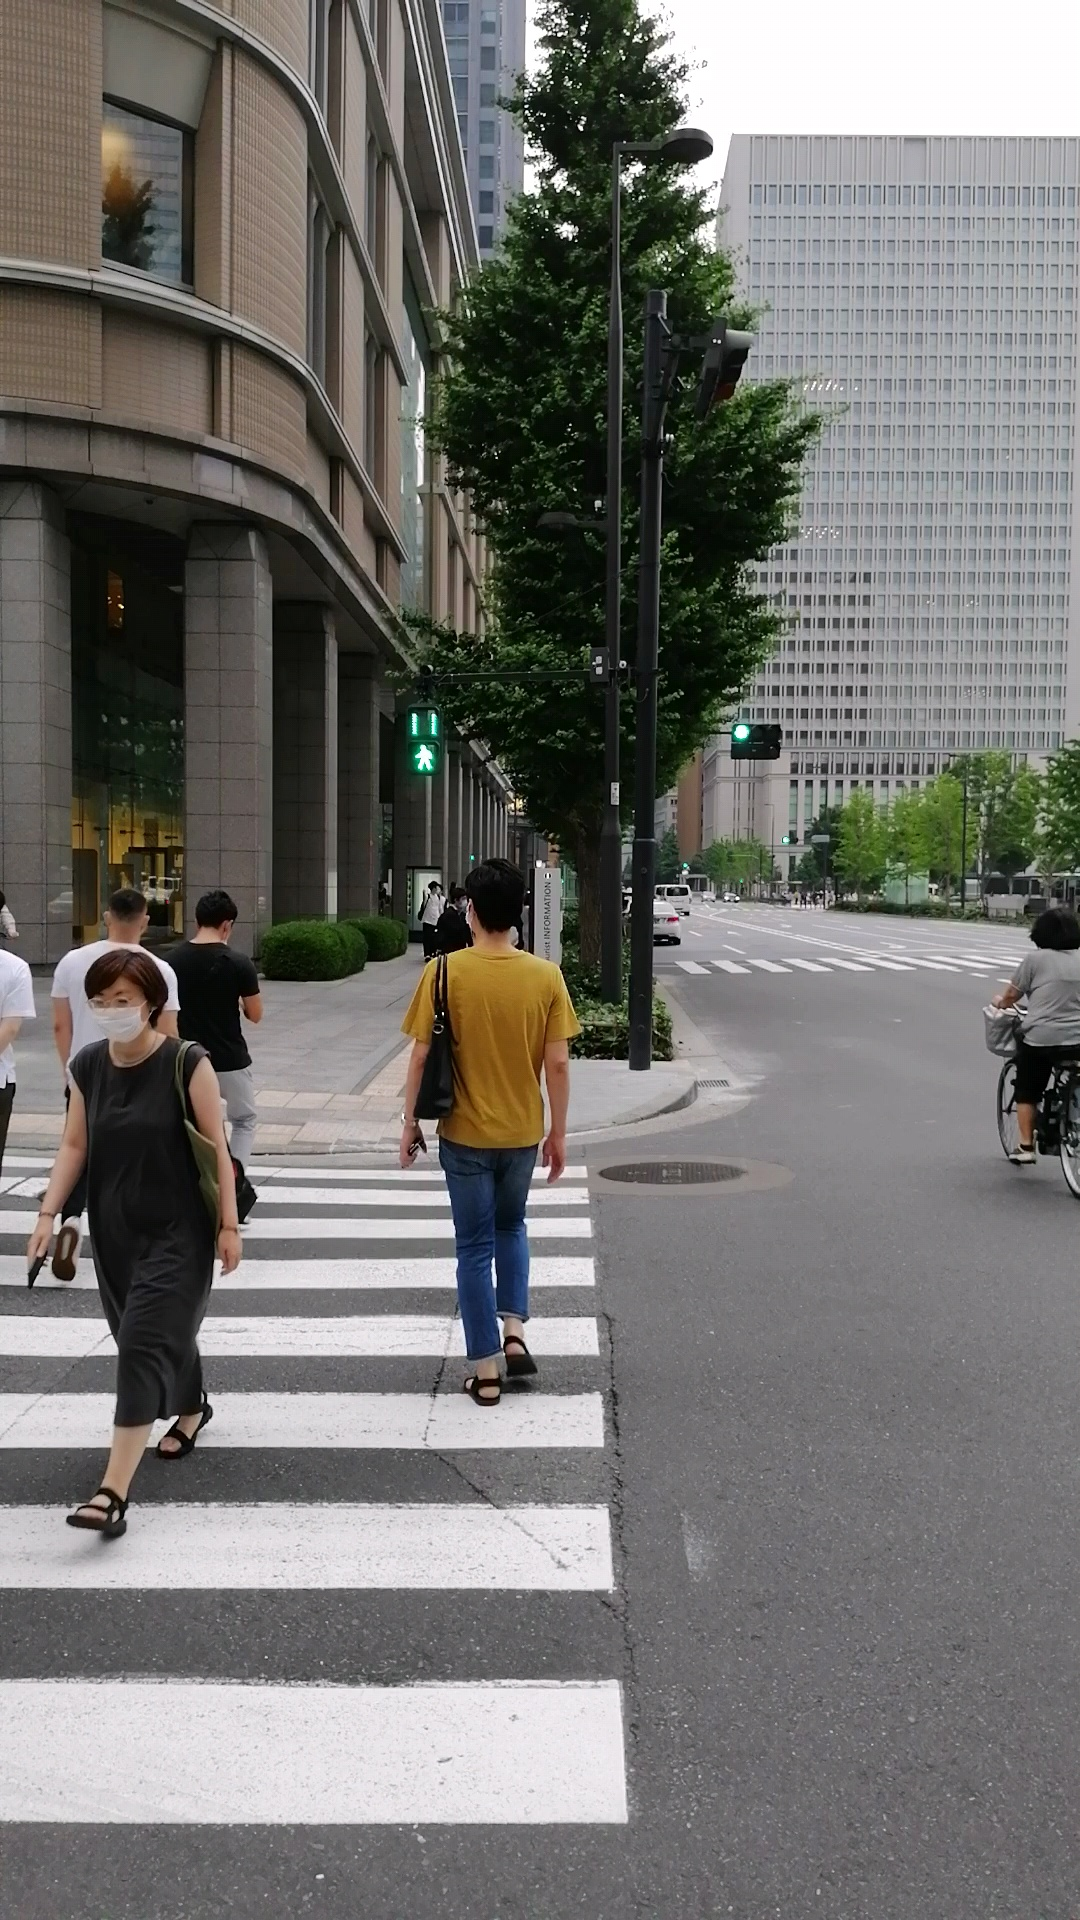green: (405, 703, 444, 777)
